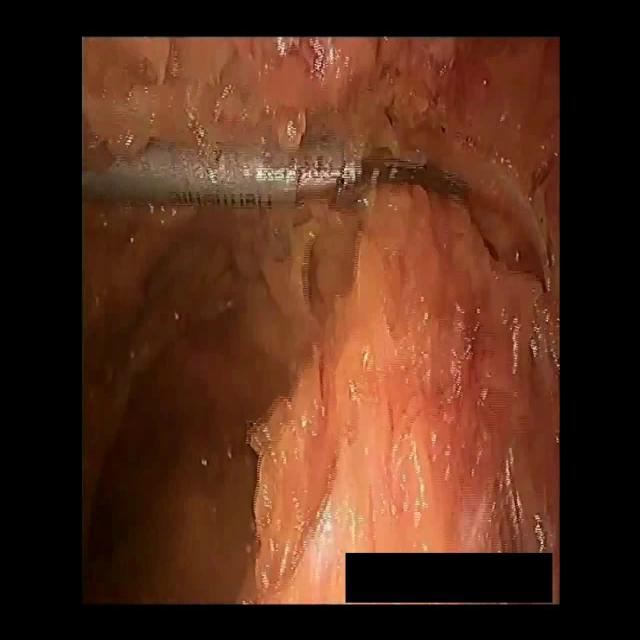surgical-area: (80, 36, 562, 604)
surgical-tool: (77, 132, 461, 207)
